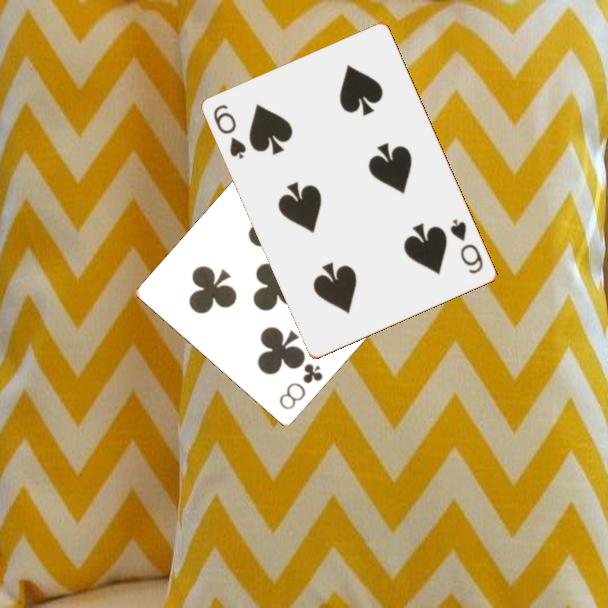c08: (275, 360, 326, 413)
s06: (447, 215, 487, 277), (210, 101, 250, 162)
